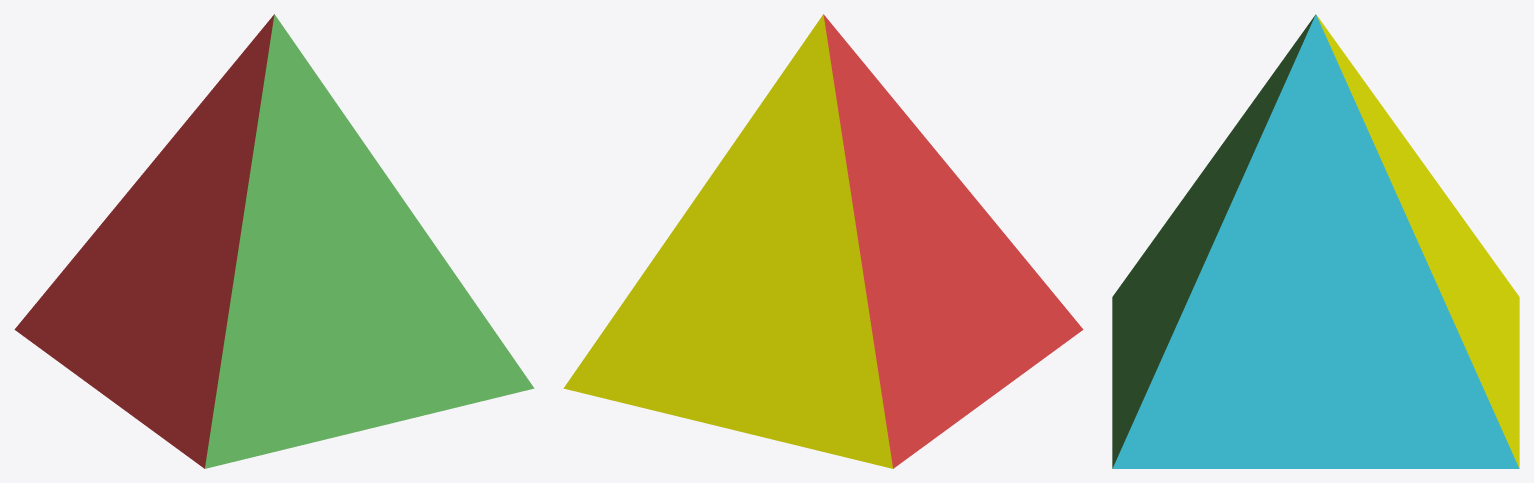
The model's file is 9639.gltf.glb.
3 views of the same model, side by side, from view 1: azimuth 30°, elevation 25°; view 2: azimuth 150°, elevation 25°; view 3: azimuth 270°, elevation 25° (orthographic). The views are drawn at different scales.
Parts seen in each view (by area): view 1: Pyramid001; view 2: Pyramid001; view 3: Pyramid001.
Boxes of the visible parts, box(x1,y1,x2,y2) form: Pyramid001: box(14, 14, 534, 468); Pyramid001: box(563, 14, 1083, 468); Pyramid001: box(1112, 14, 1519, 468).
Bounding box in the file's own units: 1.14 × 1.14 × 1.14.
